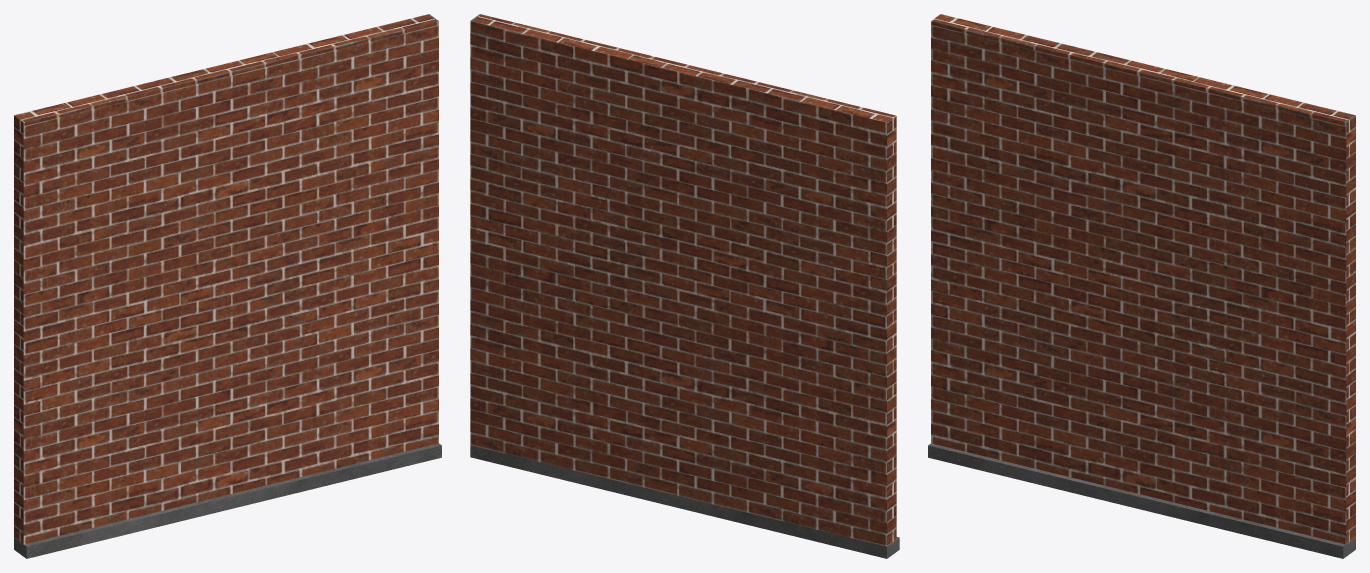
File: BrickWall500.fbx
3 renders of one model, left to right at view 1: azimuth 30°, elevation 25°; view 2: azimuth 150°, elevation 25°; view 3: azimuth 330°, elevation 25°, orthographic.
Parts seen in each view (by area): view 1: BrickWall500; view 2: BrickWall500; view 3: BrickWall500.
Part boxes in pixels (bbox=[...]): BrickWall500: bbox=[14, 14, 441, 558]; BrickWall500: bbox=[470, 14, 899, 558]; BrickWall500: bbox=[928, 14, 1355, 558].
Size of the model in its own units: 500 by 500 by 26.23.
Materials: 1 (1 with a texture image).
